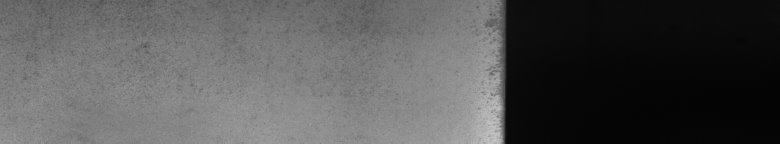ib: (136, 12, 200, 91)
